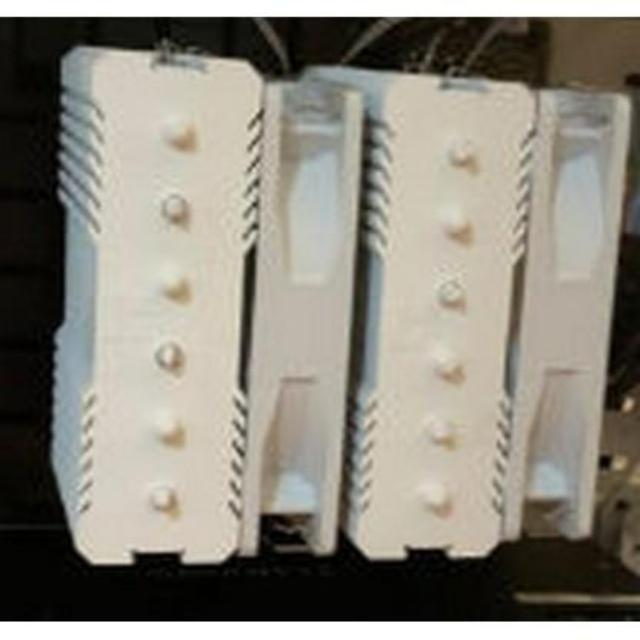CPU_Fan: (56, 51, 601, 564)
